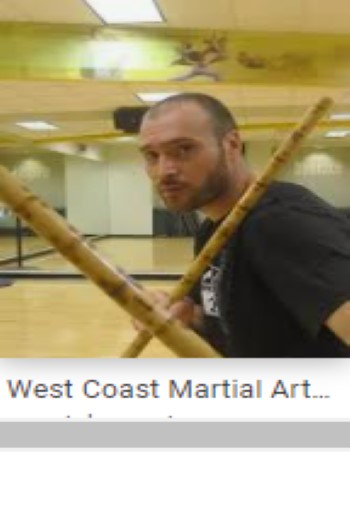baston_e: (9, 160, 195, 365), (171, 113, 325, 306)
baston_v: (185, 312, 228, 384), (303, 75, 343, 120)
